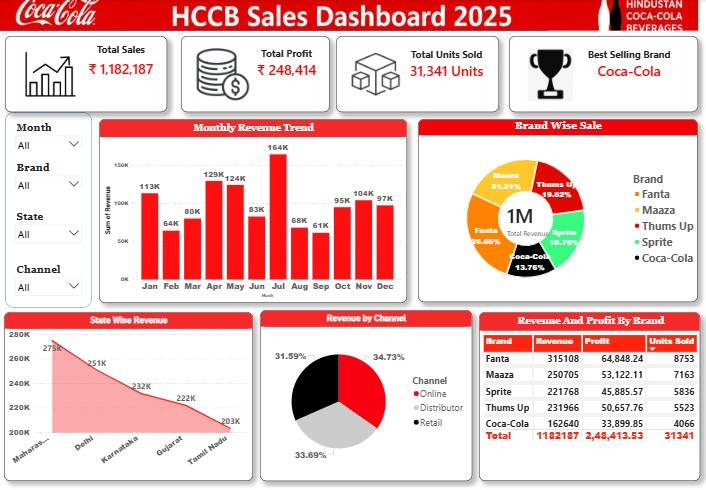

This screenshot's page, from the dashboard's own definition file:
{"tool":"powerbi","page":{"name":"Page 1","canvas":[1650,1150],"ordinal":0},"visuals":[{"type":"shape","box":[11.7,264.1,203.4,458.1],"z":0},{"type":"shape","box":[0,0,1280,73.9],"z":1000},{"type":"image","box":[0,0,1632.1,73.8],"z":2000},{"type":"slicer","fields":{"Values":["SalesData.Brand"]},"box":[25.7,374,175.3,70.1],"z":4000},{"type":"slicer","fields":{"Values":["SalesData.Month"]},"box":[25.7,280.5,175.3,70.1],"z":5000},{"type":"slicer","fields":{"Values":["SalesData.State"]},"box":[25.7,488.5,175.3,86.5],"z":6000},{"type":"slicer","fields":{"Values":["SalesData.Channel"]},"box":[25.7,612.4,175.3,98.2],"z":7000},{"type":"clusteredColumnChart","title":"Monthly Revenue Trend","fields":{"Category":["SalesData.Month"],"Y":["Sum(SalesData.Revenue)"]},"box":[231.4,280.5,719.9,430.1],"z":8000},{"type":"donutChart","title":"Brand Wise Sale","fields":{"Category":["SalesData.Brand"],"Y":["Sum(SalesData.Revenue)"]},"box":[977,280.5,654.5,427.7],"z":9000},{"type":"areaChart","title":"State Wise Revenue ","fields":{"Category":["SalesData.State"],"Y":["Sum(SalesData.Revenue)"]},"box":[9.3,731.6,582,395],"z":10000},{"type":"pieChart","title":"Revenue by Channel","fields":{"Category":["SalesData.Channel"],"Y":["Sum(SalesData.Revenue)"]},"box":[607.7,726.9,495.5,399.7],"z":11000},{"type":"cardVisual","fields":{"Data":["SalesData.Total Revenue"]},"box":[1136,458.1,212.7,116.9],"z":12000},{"type":"tableEx","title":"Revenue And Profit By Brand","fields":{"Values":["SalesData.Brand","Sum(SalesData.Revenue)","Sum(SalesData.Profit)","Sum(SalesData.Units Sold)"]},"box":[1119.6,731.6,516.6,395],"z":13000},{"type":"cardVisual","fields":{"Data":["SalesData.Total Sales (Formatted)"]},"box":[11.7,86.5,378.7,177.6],"z":14000},{"type":"cardVisual","fields":{"Data":["SalesData.Total Profit (Formatted)"]},"box":[423.1,86.5,348.3,177.6],"z":15000},{"type":"cardVisual","fields":{"Data":["SalesData.Total Units Sold (Formatted)"]},"box":[785.4,86.5,381,177.6],"z":16000},{"type":"cardVisual","fields":{"Data":["SalesData.Best Selling Brand"]},"box":[1189.7,86.5,441.8,177.6],"z":17000}]}

Visuals, with their boxes in screenshot pixels (x1, y1, x2, y2), scaled from the page's 1650x1150 canvas onto the 706x490 screenshot:
shape: <bbox>5, 113, 92, 308</bbox>
shape: <bbox>0, 0, 548, 31</bbox>
image: <bbox>0, 0, 698, 31</bbox>
slicer - SalesData.Brand: <bbox>11, 159, 86, 189</bbox>
slicer - SalesData.Month: <bbox>11, 120, 86, 149</bbox>
slicer - SalesData.State: <bbox>11, 208, 86, 245</bbox>
slicer - SalesData.Channel: <bbox>11, 261, 86, 303</bbox>
"Monthly Revenue Trend" clusteredColumnChart: <bbox>99, 120, 407, 303</bbox>
"Brand Wise Sale" donutChart: <bbox>418, 120, 698, 302</bbox>
"State Wise Revenue " areaChart: <bbox>4, 312, 253, 480</bbox>
"Revenue by Channel" pieChart: <bbox>260, 310, 472, 480</bbox>
cardVisual - SalesData.Total Revenue: <bbox>486, 195, 577, 245</bbox>
"Revenue And Profit By Brand" tableEx: <bbox>479, 312, 700, 480</bbox>
cardVisual - SalesData.Total Sales (Formatted): <bbox>5, 37, 167, 113</bbox>
cardVisual - SalesData.Total Profit (Formatted): <bbox>181, 37, 330, 113</bbox>
cardVisual - SalesData.Total Units Sold (Formatted): <bbox>336, 37, 499, 113</bbox>
cardVisual - SalesData.Best Selling Brand: <bbox>509, 37, 698, 113</bbox>
